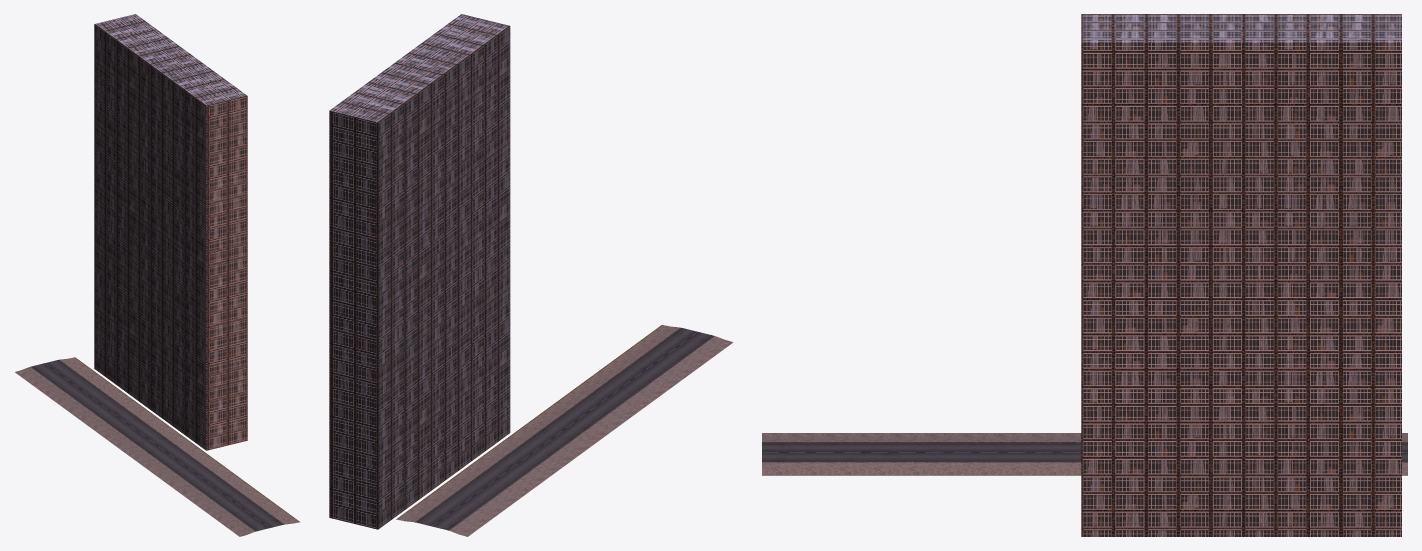
File: road.glb
3 renders of one model, left to right at view 1: azimuth 30°, elevation 25°; view 2: azimuth 150°, elevation 25°; view 3: azimuth 270°, elevation 25°, orthographic. The views are drawn at different scales.
Parts seen in each view (by area): view 1: Cube.011, tq_US_Country; view 2: Cube.011, tq_US_Country; view 3: Cube.011, tq_US_Country.
Boxes of the visible parts, x1,y1,x2,y2 form: Cube.011: (94,14,247,450); tq_US_Country: (15,357,300,536); Cube.011: (329,14,510,529); tq_US_Country: (396,325,733,536); Cube.011: (1081,14,1401,536); tq_US_Country: (762,433,1407,475).
Size of the model in its own units: 33.62 by 92.85 by 110.
Materials: 2 (2 with a texture image).
